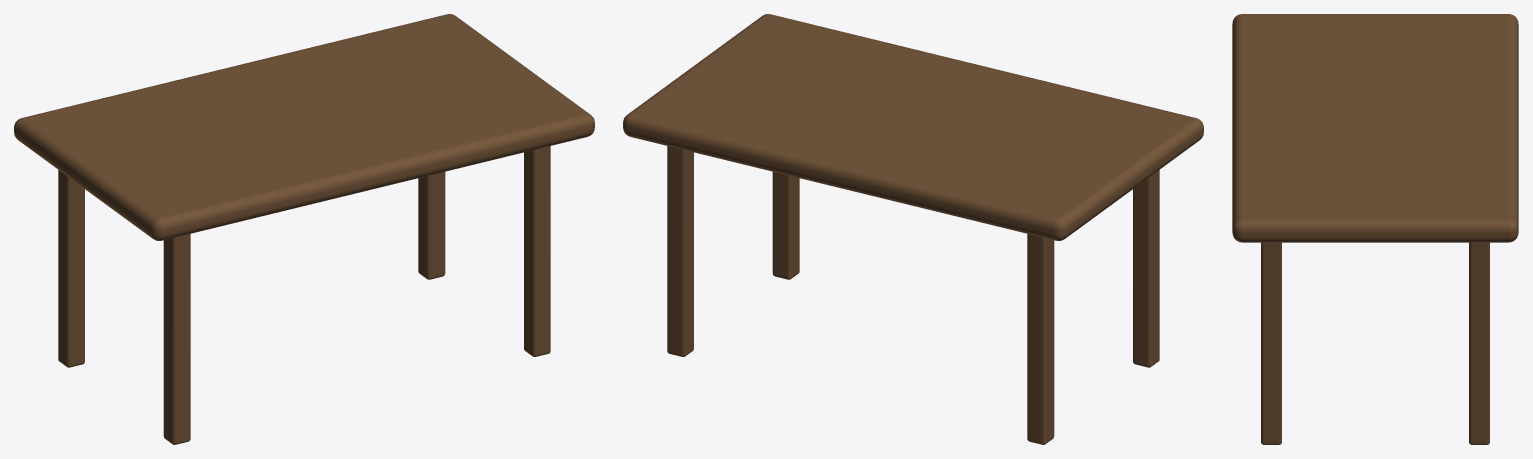
The model's file is dining_table.glb.
3 views of the same model, side by side, from view 1: azimuth 30°, elevation 25°; view 2: azimuth 150°, elevation 25°; view 3: azimuth 270°, elevation 25° (orthographic).
Visible parts, largest first — view 1: Oak dining top, Dining leg.001, Dining leg.003, Dining leg, Dining leg.002; view 2: Oak dining top, Dining leg, Dining leg.002, Dining leg.001, Dining leg.003; view 3: Oak dining top, Dining leg.002, Dining leg.003.
Boxes of the visible parts, x1,y1,x2,y2 form: Oak dining top: (14, 14, 594, 240); Dining leg.001: (163, 234, 190, 444); Dining leg.003: (524, 146, 550, 356); Dining leg: (58, 170, 84, 367); Dining leg.002: (418, 172, 445, 279); Oak dining top: (623, 14, 1203, 240); Dining leg: (1027, 234, 1054, 444); Dining leg.002: (667, 146, 693, 356); Dining leg.001: (1133, 170, 1159, 367); Dining leg.003: (772, 172, 799, 279); Oak dining top: (1232, 14, 1518, 242); Dining leg.002: (1469, 242, 1489, 444); Dining leg.003: (1261, 242, 1281, 444).
Bounding box in the file's own units: 1.55 × 0.8075 × 0.88.
